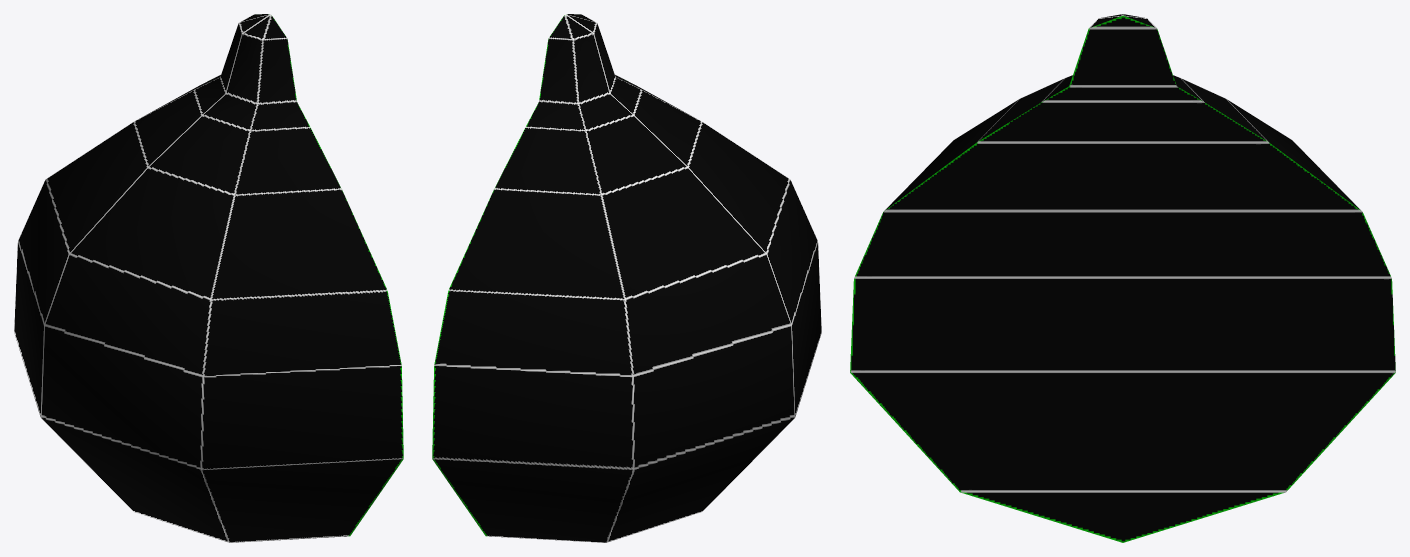
File: asset_ingredient_onion_state3.FBX
3 views of the same model, side by side, from view 1: azimuth 30°, elevation 25°; view 2: azimuth 150°, elevation 25°; view 3: azimuth 270°, elevation 25° (orthographic). The views are drawn at different scales.
Visible parts, largest first — view 1: Object002; view 2: Object002; view 3: Object002.
Part boxes in pixels (x1=…): Object002: x1=14, y1=14, x2=403, y2=542; Object002: x1=432, y1=14, x2=821, y2=542; Object002: x1=850, y1=14, x2=1395, y2=542.
Bounding box in the file's own units: 3.32 × 7.07 × 6.64.
